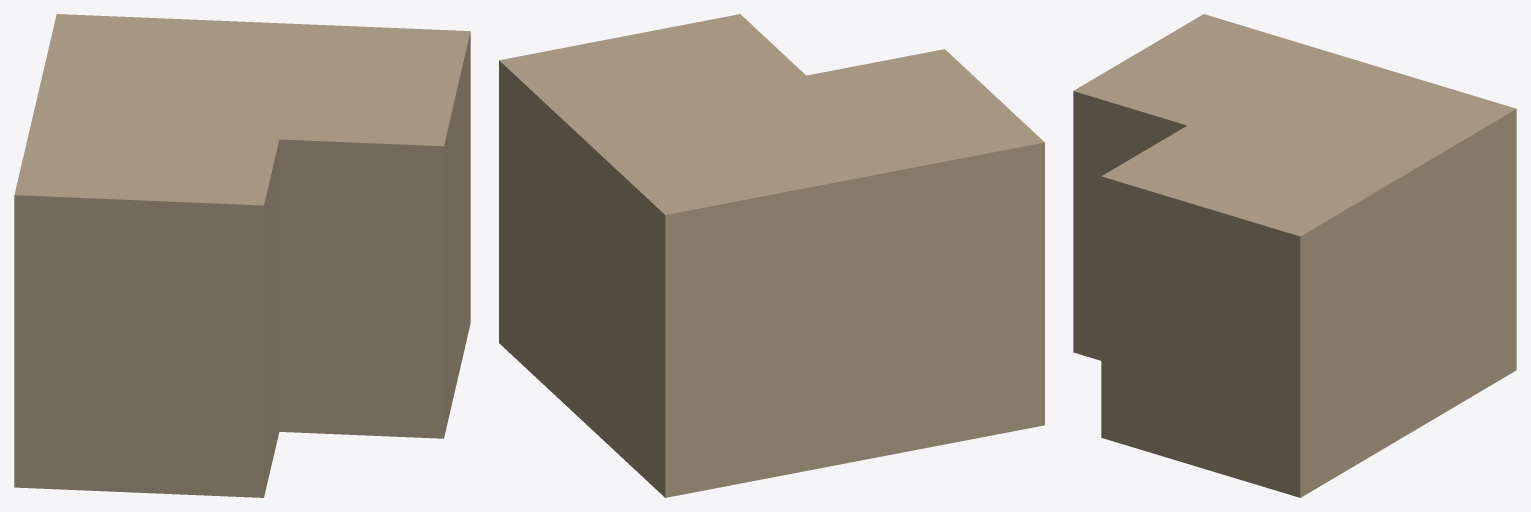
The model's file is bld_108162112.dae.
3 views of the same model, side by side, from view 1: azimuth 30°, elevation 25°; view 2: azimuth 150°, elevation 25°; view 3: azimuth 270°, elevation 25° (orthographic). The views are drawn at different scales.
Parts seen in each view (by area): view 1: bld_108162112; view 2: bld_108162112; view 3: bld_108162112.
Boxes of the visible parts, x1,y1,x2,y2 form: bld_108162112: (14,14,470,497); bld_108162112: (499,14,1044,497); bld_108162112: (1073,14,1516,497).
Bounding box in the file's own units: 14.61 × 12.3 × 8.
